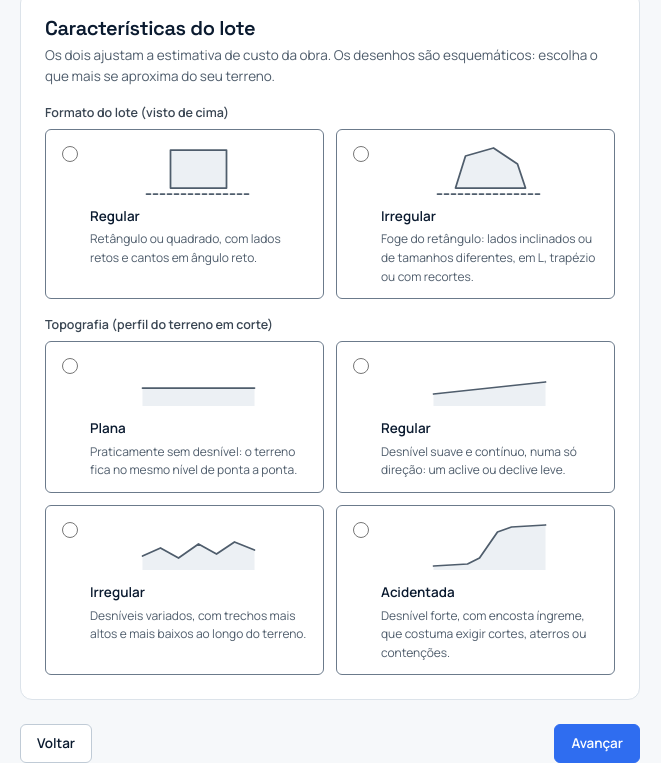
Scenario: Terreno › bloqueia o Avançar com resumo de pendências, que recebe o foco
(page scrolled)
Click the button "Avançar" at [597, 744], box [554,724,640,762]
(page scrolled)
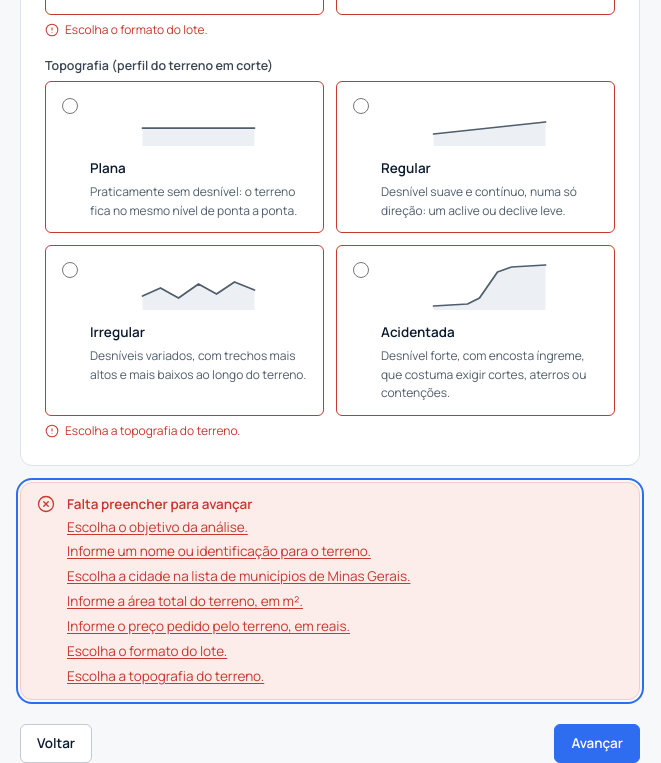
Now the button "Escolha o objetivo da análise." is shown, box [67,516,248,537]
Now the button "Informe um nome ou identificação para o terreno." is shown, box [67,542,371,562]
Now the button "Escolha a cidade na lista de municípios de Minas Gerais." is shown, box [67,566,410,587]
